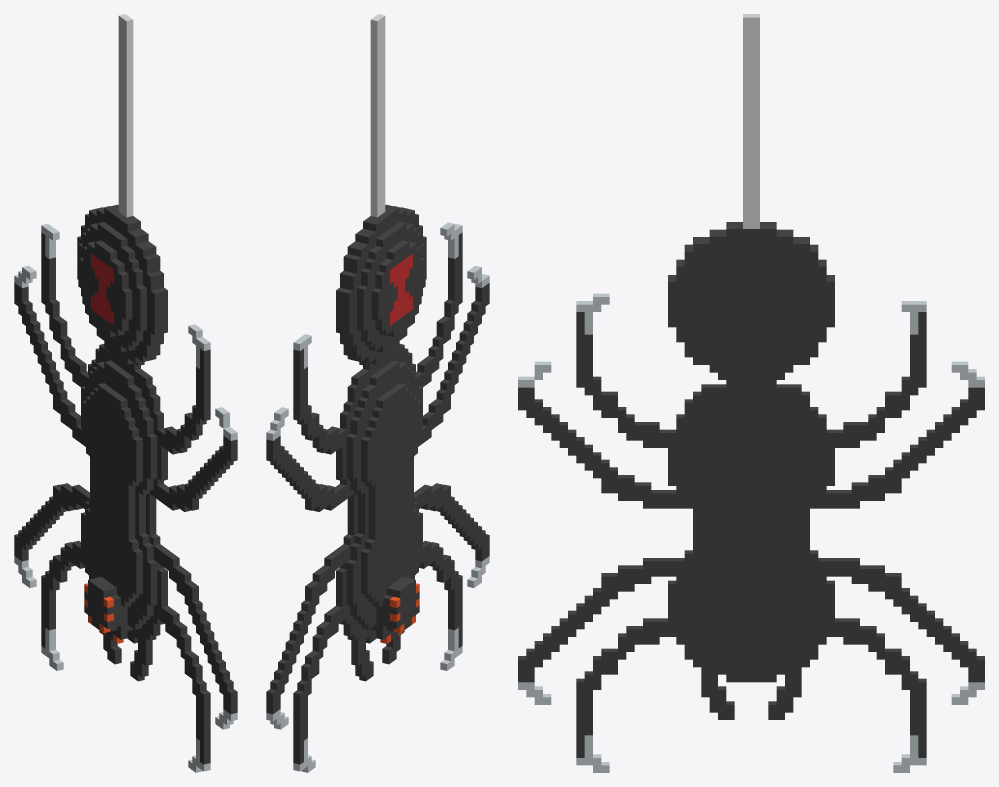
Rendered from Spider-0-Spider.obj.
The picture shows the model from 3 angles, left to right: view 1: azimuth 30°, elevation 25°; view 2: azimuth 150°, elevation 25°; view 3: azimuth 270°, elevation 25°; orthographic projection. The views are drawn at different scales.
Parts seen in each view (by area): view 1: Spider; view 2: Spider; view 3: Spider.
Part boxes in pixels (<box>): Spider: <box>14,14,237,772</box>; Spider: <box>266,14,489,772</box>; Spider: <box>518,14,984,772</box>.
Size of the model in its own units: 0.5 by 10 by 5.6.
Materials: 1 (1 with a texture image).
